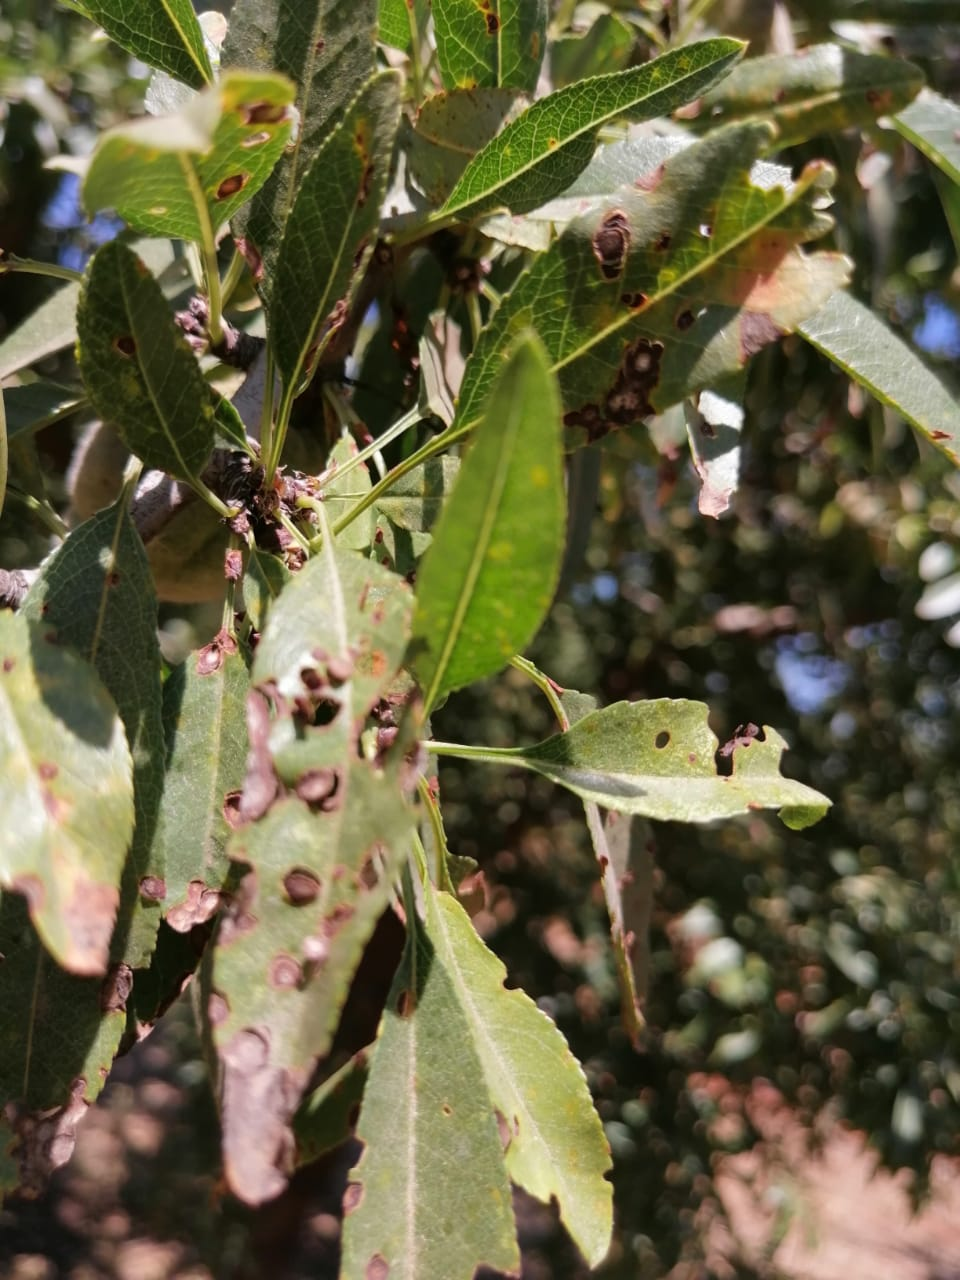coryneum: (205, 550, 419, 1208), (451, 118, 837, 452), (522, 692, 833, 829), (136, 631, 268, 931)
